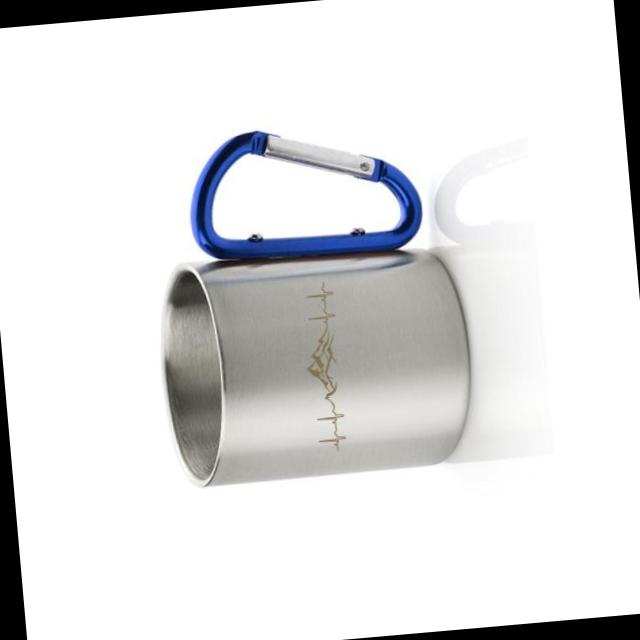Coffee Mug: (136, 106, 485, 492)
